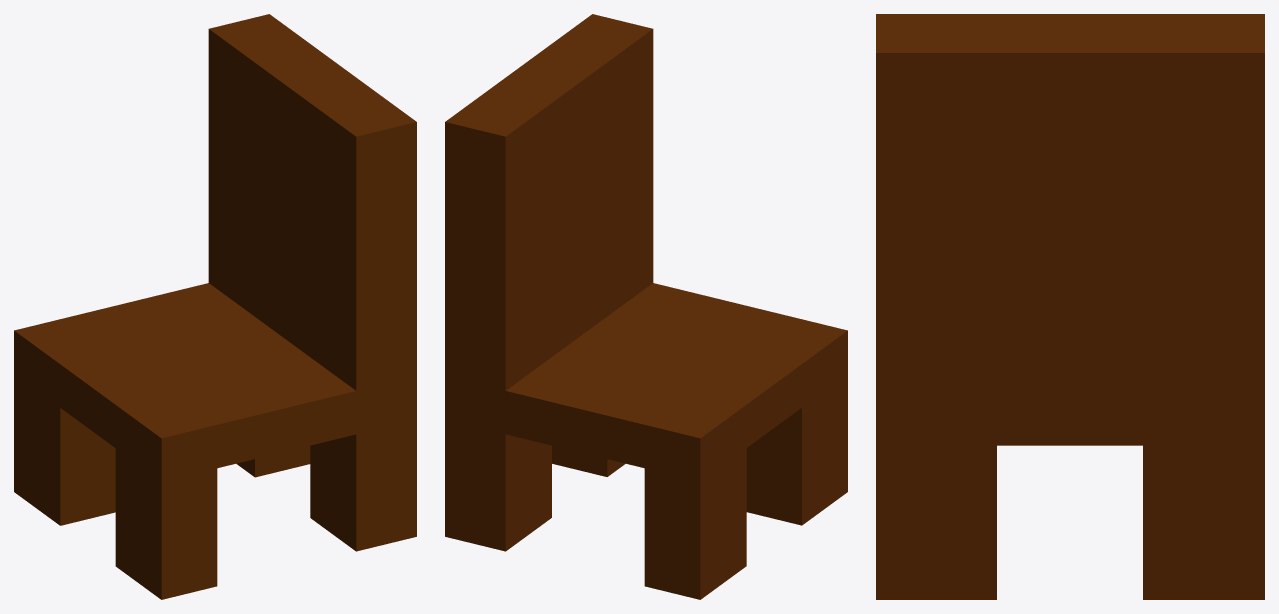
Rendered from Silla pintada.fbx.
3 views of the same model, side by side, from view 1: azimuth 30°, elevation 25°; view 2: azimuth 150°, elevation 25°; view 3: azimuth 270°, elevation 25° (orthographic). The views are drawn at different scales.
Parts seen in each view (by area): view 1: Silla.001; view 2: Silla.001; view 3: Silla.001.
Boxes of the visible parts, box(x1,y1,x2,y2) form: Silla.001: box(14, 14, 416, 599); Silla.001: box(445, 14, 847, 599); Silla.001: box(876, 14, 1264, 599).
Size of the model in its own units: 200 by 311 by 200.
